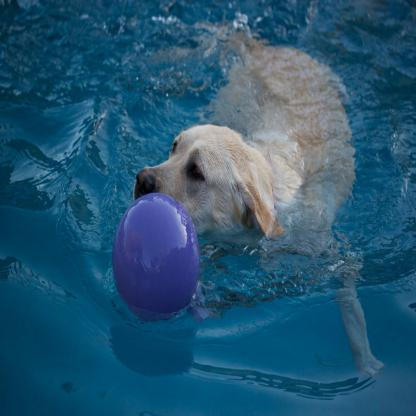Ball: (113, 193, 201, 322)
